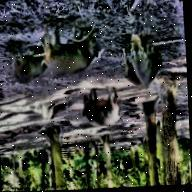boar: (67, 76, 121, 128)
